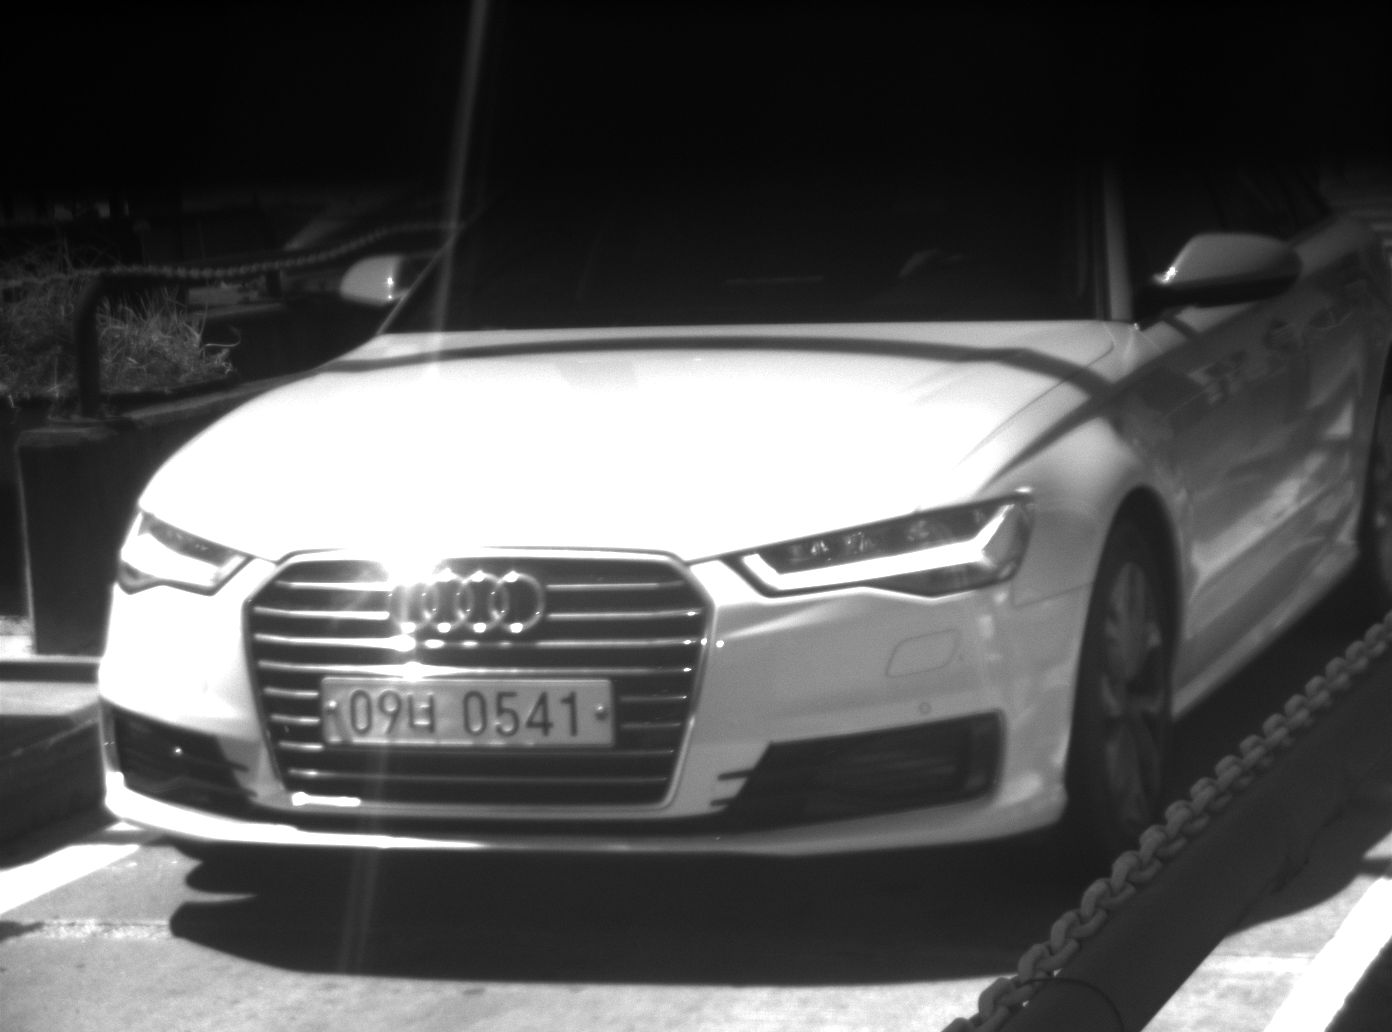car: (94, 216, 1392, 885)
plate: (318, 678, 613, 748)
